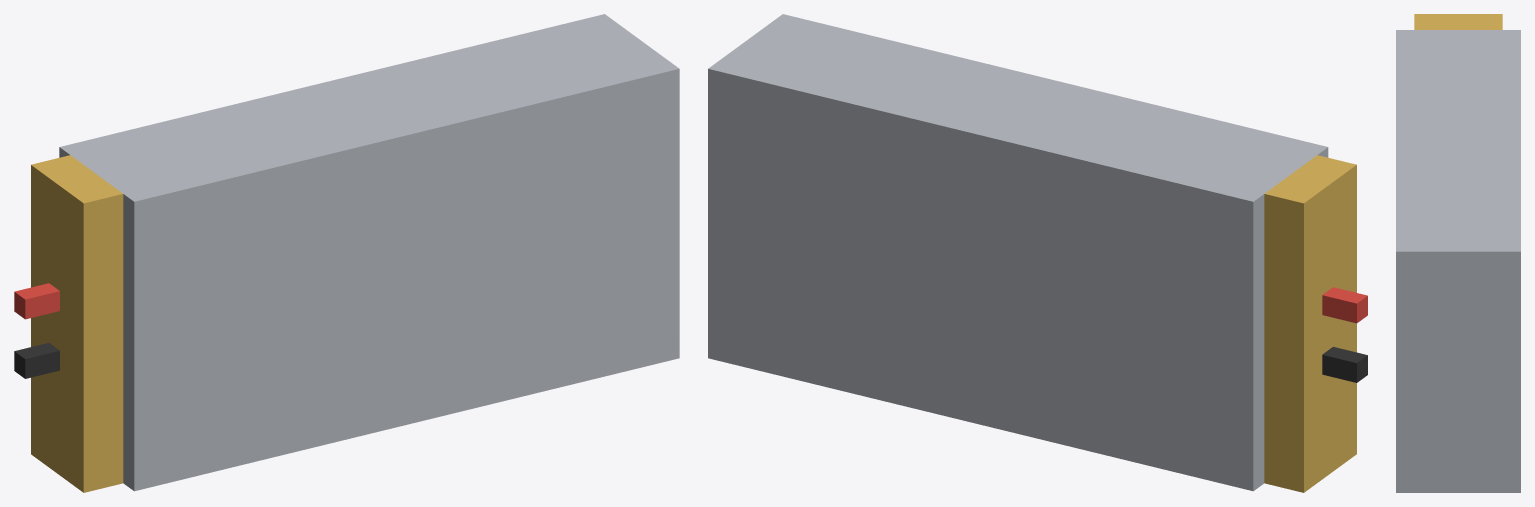
The model's file is lipo-400mah.glb.
3 views of the same model, side by side, from view 1: azimuth 30°, elevation 25°; view 2: azimuth 150°, elevation 25°; view 3: azimuth 270°, elevation 25° (orthographic). The views are drawn at different scales.
Visible parts, largest first — view 1: LiPo400; view 2: LiPo400; view 3: LiPo400.
Boxes of the visible parts, bbox=[...] form: LiPo400: bbox=[14, 14, 679, 492]; LiPo400: bbox=[708, 14, 1367, 492]; LiPo400: bbox=[1396, 14, 1520, 492].
Size of the model in its own units: 39.2 by 17.5 by 8.2.
